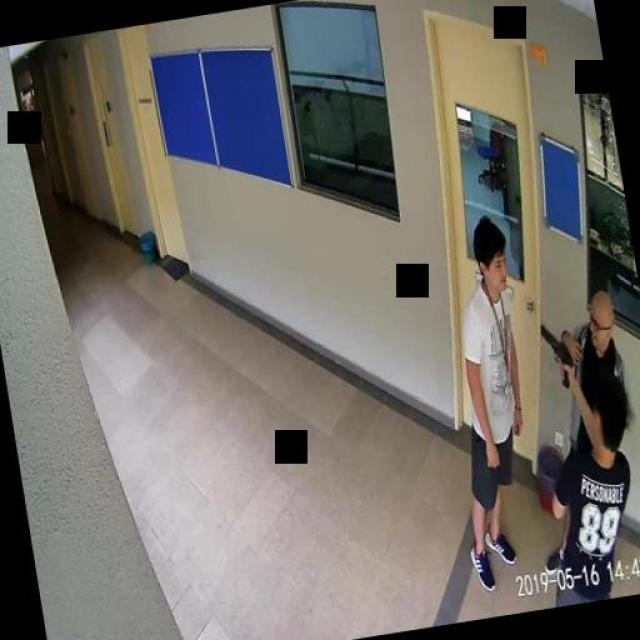gun: (538, 321, 574, 390)
